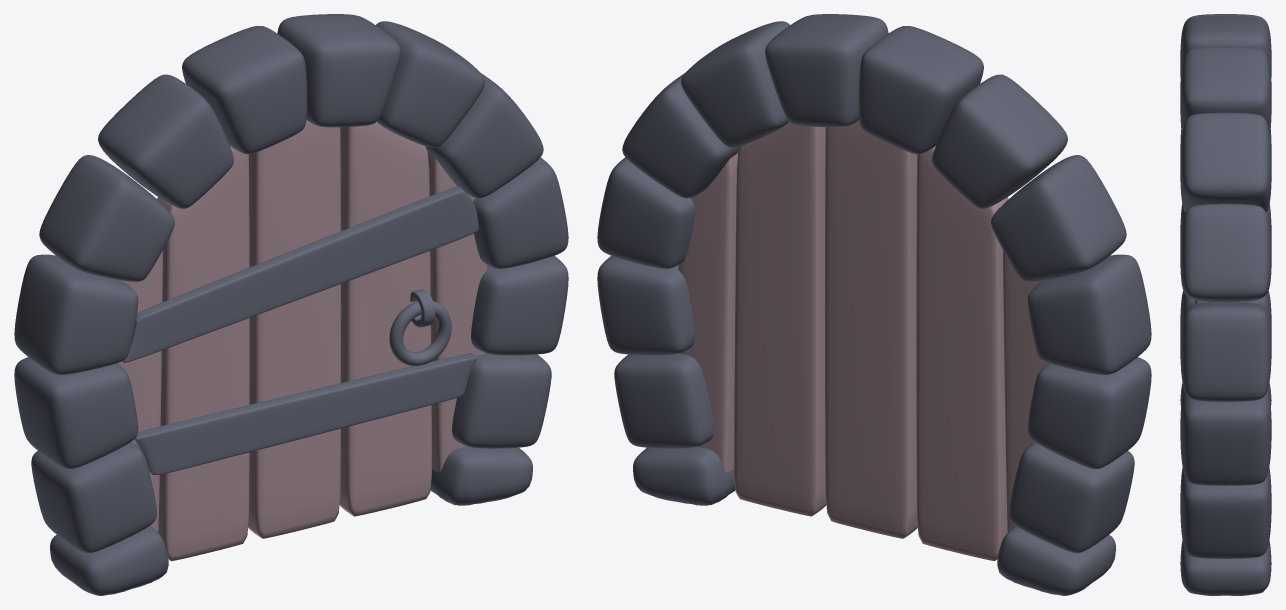
Rendered from door.fbx.
The picture shows the model from 3 angles, left to right: view 1: azimuth 30°, elevation 25°; view 2: azimuth 150°, elevation 25°; view 3: azimuth 270°, elevation 25°; orthographic projection. The views are drawn at different scales.
Parts seen in each view (by area): view 1: polySurface26; view 2: polySurface26; view 3: polySurface26.
Boxes of the visible parts, <box> form: polySurface26: <box>14,14,568,595</box>; polySurface26: <box>597,14,1151,595</box>; polySurface26: <box>1180,14,1271,595</box>.
Size of the model in its own units: 6.02 by 5.57 by 0.9927.
